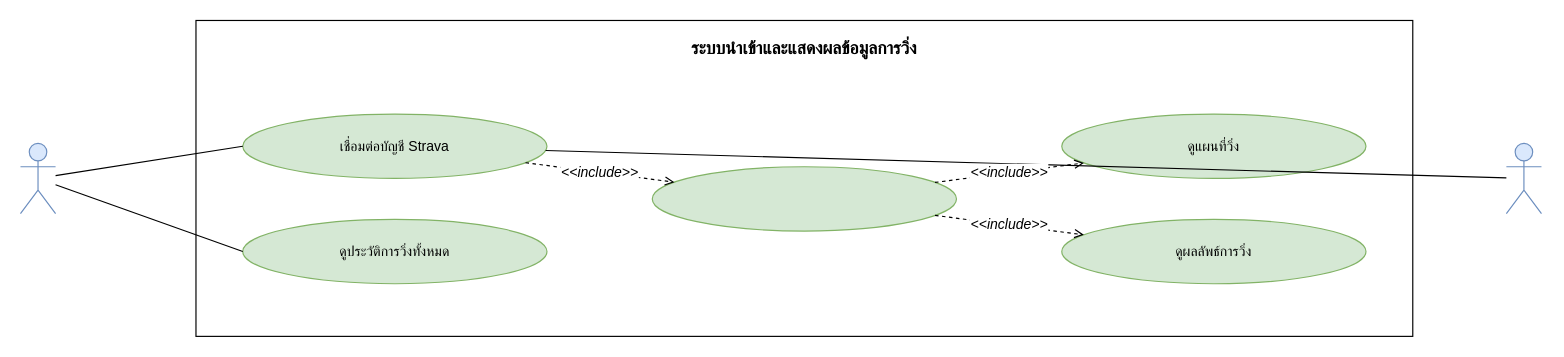
Image size: 1564x357. Some labels were removed from this diagram. The shapes that lost their labels are listed below. From the top down, each one's centre as x and y in pixels, then its label:
At pixel 37 178: "นักวิ่ง".
At pixel 803 198: "นำเข้าข้อมูล Session จาก Strava".
At pixel 1523 178: "Strava".
